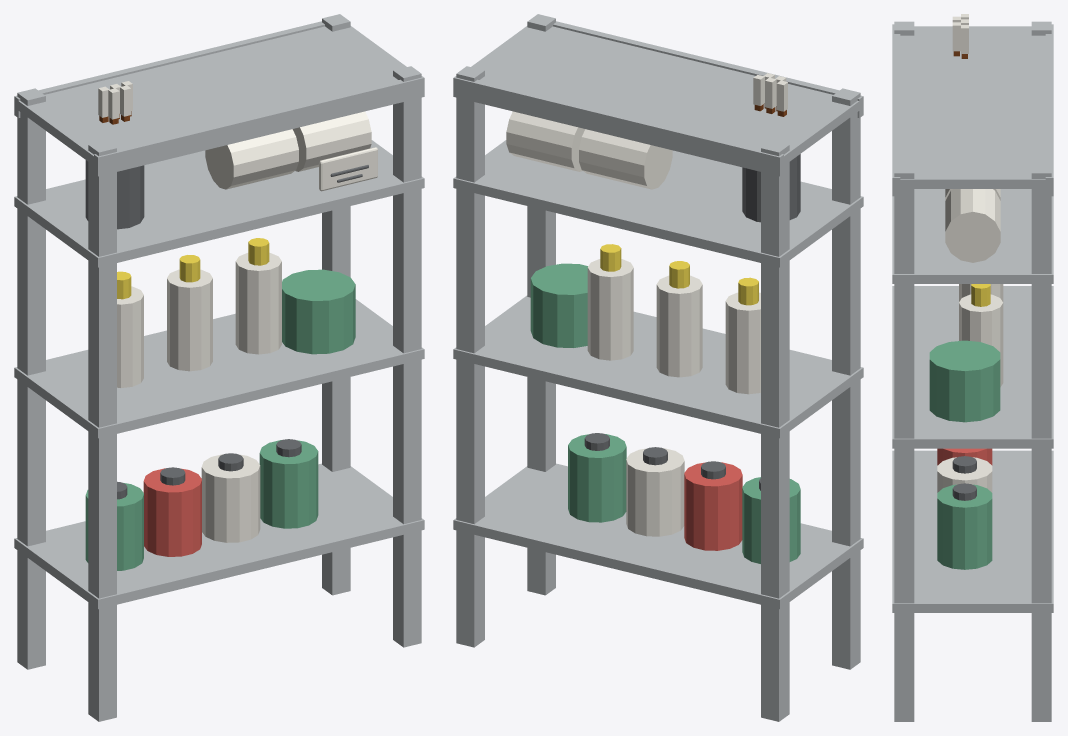
The model's file is woodworking-workshop-and-joinery-woodworking-workshop--4a8333c5__34264.glb.
3 views of the same model, side by side, from view 1: azimuth 30°, elevation 25°; view 2: azimuth 150°, elevation 25°; view 3: azimuth 270°, elevation 25° (orthographic). The views are drawn at different scales.
Parts seen in each view (by area): view 1: woodworking-workshop-and-joinery-glue-and-finish-shelf; view 2: woodworking-workshop-and-joinery-glue-and-finish-shelf; view 3: woodworking-workshop-and-joinery-glue-and-finish-shelf.
Part boxes in pixels (bbox=[...]): woodworking-workshop-and-joinery-glue-and-finish-shelf: bbox=[14, 14, 424, 721]; woodworking-workshop-and-joinery-glue-and-finish-shelf: bbox=[453, 14, 863, 721]; woodworking-workshop-and-joinery-glue-and-finish-shelf: bbox=[892, 14, 1053, 721].
Size of the model in its own units: 0.9001 by 1.57 by 0.4.
Materials: 7 (1 with a texture image).
